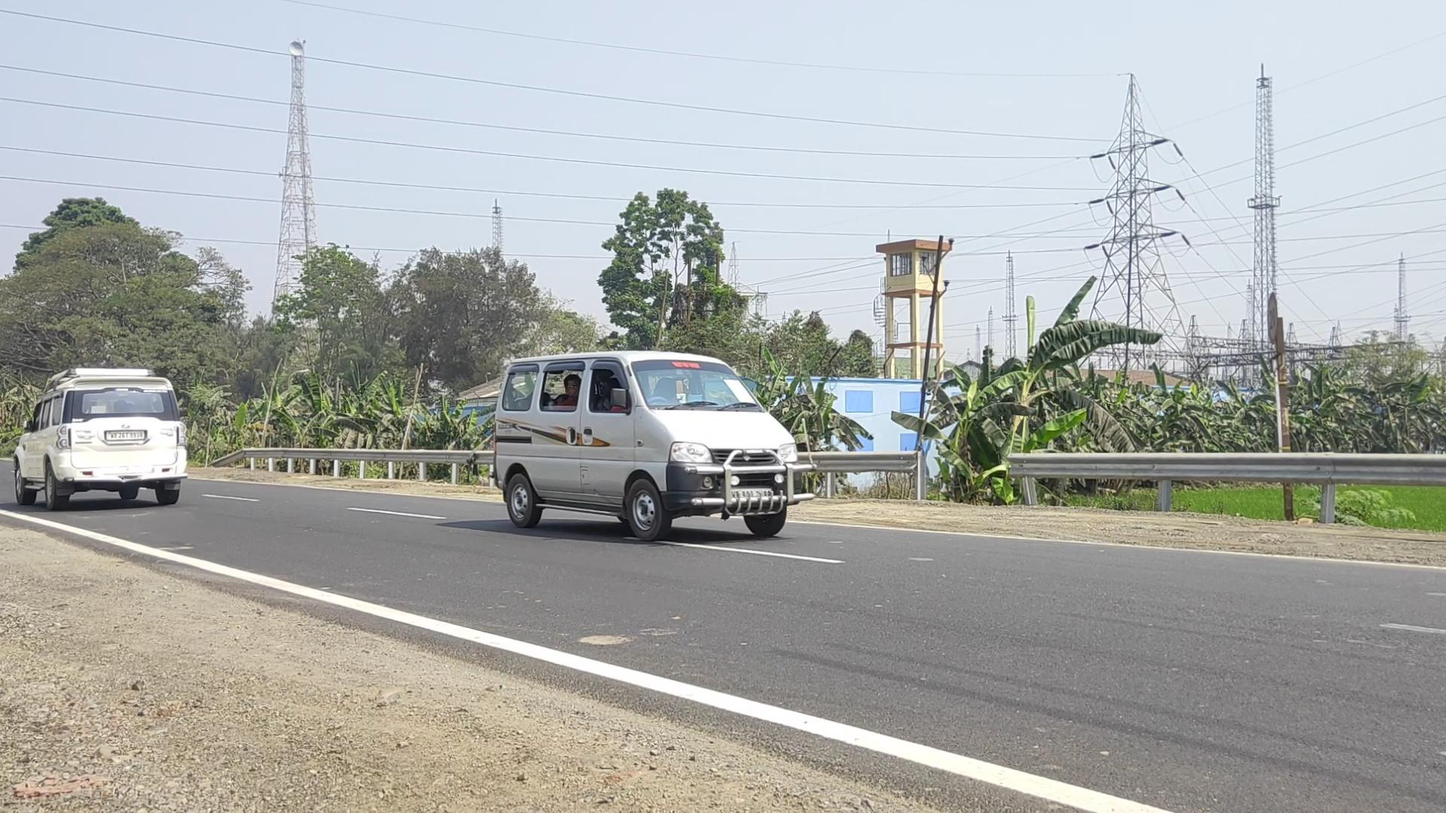car: (13, 366, 188, 512)
van: (490, 351, 817, 542)
